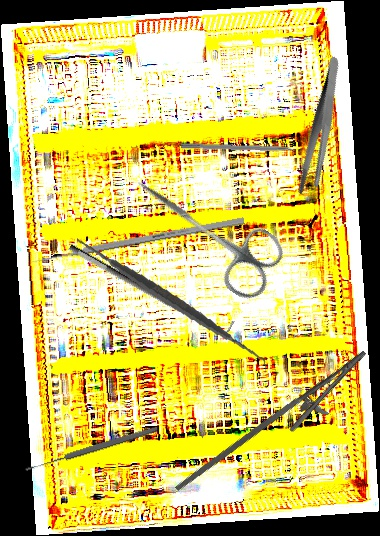Dressing Forceps: (269, 54, 374, 201)
Hook Surgical: (67, 231, 235, 342)
Iris Scissors: (116, 155, 293, 307)
Needle Holder: (173, 328, 380, 526)
Pusher: (29, 216, 245, 266), (180, 142, 311, 155)
Spatula Surgical: (75, 207, 267, 394)
Surgical Spoon: (23, 424, 160, 474)
